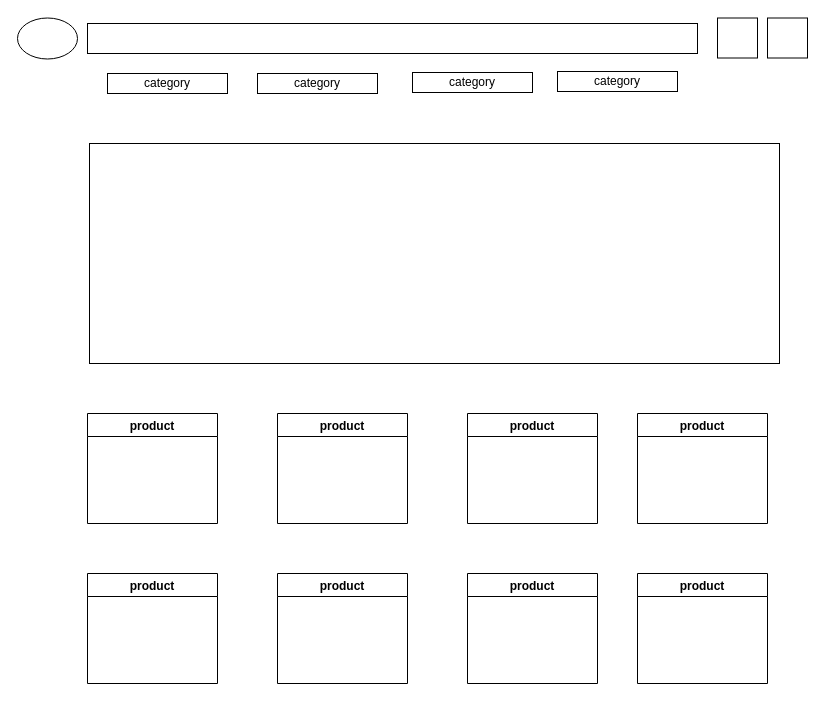
The diagram is 825 pixels wide and 701 high, and some of its shapes have lost their labels. The shapes that lost their labels are listed below. From the top down, each one's centre as x and y in pixels, then its label:
(x=47, y=38): Catsy logo
(x=392, y=38): search bar
(x=434, y=253): welcome back, Username
